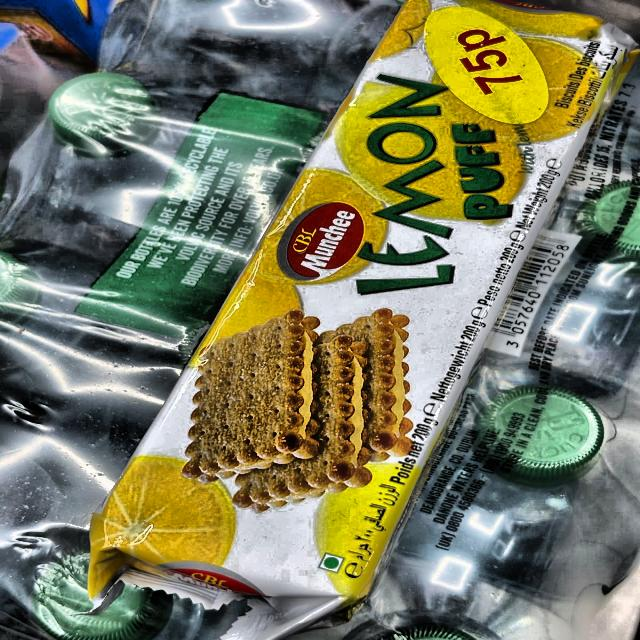lemon puff: (104, 6, 616, 596)
